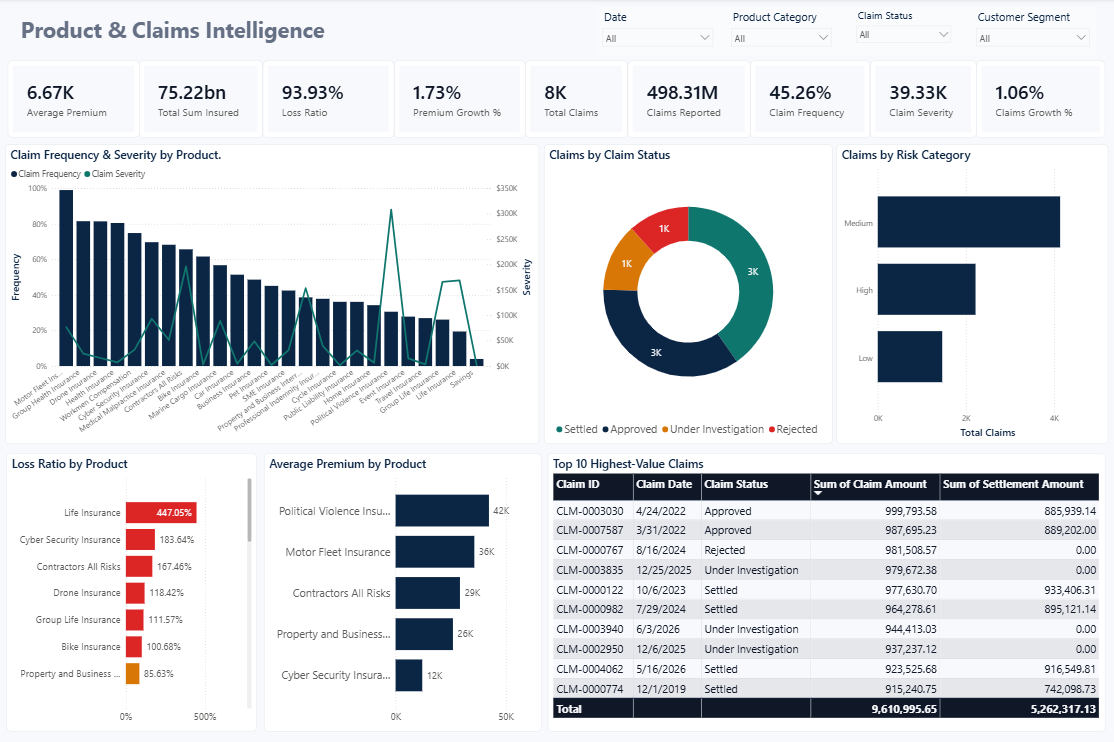

The dashboard page shown, as its layout file describes it:
{"tool":"powerbi","page":{"name":"2 - Product & Claims Intelligence","canvas":[1920,1280],"ordinal":1},"visuals":[{"type":"slicer","title":"Product","fields":{"Values":["Product.Product Category"]},"box":[1247.7,15.4,192.6,84.1],"z":0,"group":"g1"},{"type":"textbox","box":[15,23.6,566.2,66.5],"z":0},{"type":"slicer","fields":{"Values":["Date.Year"]},"box":[1026.1,15.5,210.2,84.1],"z":1000,"group":"g1"},{"type":"cardVisual","fields":{"Data":["_Measures.Average Premium"]},"box":[14.5,107,226,132],"z":1000},{"type":"cardVisual","fields":{"Data":["_Measures.Claim Frequency"]},"box":[1289.1,107.2,205.9,133],"z":2000},{"type":"slicer","title":"Customer Segment","fields":{"Values":["Customer.Customer Segment"]},"box":[1667.5,14.5,214.6,84.1],"z":3000,"group":"g1"},{"type":"cardVisual","fields":{"Data":["_Measures.Total Sum Insured"]},"box":[240.5,107.2,212.3,133],"z":3000},{"type":"cardVisual","fields":{"Data":["_Measures.Claim Severity"]},"box":[1495,107.2,182.3,133],"z":4000},{"type":"group","id":"g1","title":"Group 4","box":[1026.1,14.5,856,85.1],"z":5000},{"type":"cardVisual","fields":{"Data":["_Measures.Claims Growth %"]},"box":[1677.2,107.2,220.9,133],"z":6000},{"type":"cardVisual","fields":{"Data":["_Measures.Premium Growth %"]},"box":[677.9,107.2,225.2,133],"z":7000},{"type":"cardVisual","fields":{"Data":["_Measures.Total Claims"]},"box":[903.1,107.2,175.9,133],"z":8000},{"type":"cardVisual","fields":{"Data":["_Measures.Claims Reported"]},"box":[1078.9,107.2,210.2,133],"z":9000},{"type":"donutChart","title":"Claims by Claim Status","fields":{"Category":["Claim.Claim Status"],"Y":["_Measures.Total Claims"]},"box":[934.3,252,495.4,514.7],"z":9000},{"type":"slicer","fields":{"Values":["Claim.Claim Status"]},"box":[1460.5,13.9,183.1,83.5],"z":10000},{"type":"clusteredBarChart","title":"Loss Ratio by Product","fields":{"Y":["_Measures.Loss Ratio"],"Category":["Product.Product Name"]},"box":[12.9,780.7,430,477.8],"z":12000},{"type":"cardVisual","fields":{"Data":["_Measures.Loss Ratio"]},"box":[452.8,107.2,225.2,133],"z":13000},{"type":"clusteredBarChart","title":"Average Premium by Product","fields":{"Category":["Product.Product Name"],"Y":["_Measures.Average Premium"]},"box":[454.3,781.3,476.1,478.3],"z":14000},{"type":"lineClusteredColumnComboChart","title":"Claim Frequency & Severity by Product.","fields":{"Category":["Product.Product Name"],"Y2":["_Measures.Claim Severity"],"Y":["_Measures.Claim Frequency"]},"box":[10,252,916,514],"z":15000},{"type":"tableEx","title":"Top 10 Highest-Value Claims","fields":{"Values":["Claim.Claim ID","Claim.Claim Date","Claim.Claim Status","Sum(Claim.Claim Amount)","Sum(Claim.Settlement Amount)"]},"box":[941.6,780.7,956.6,478.3],"z":15000},{"type":"clusteredBarChart","title":"Claims by Risk Category","fields":{"Category":["Product.Risk Level"],"Y":["_Measures.Total Claims"]},"box":[1438,252,466,514],"z":17000}]}

Visuals, with their boxes in screenshot pixels (x1, y1, x2, y2), scaled from the page's 1920x1280 canvas onto the 1114x742 screenshot:
"Product" slicer: (724, 9, 836, 58)
textbox: (9, 14, 337, 52)
slicer - Date.Year: (595, 9, 717, 58)
cardVisual - _Measures.Average Premium: (8, 62, 140, 139)
cardVisual - _Measures.Claim Frequency: (748, 62, 867, 139)
"Customer Segment" slicer: (967, 8, 1092, 57)
cardVisual - _Measures.Total Sum Insured: (140, 62, 263, 139)
cardVisual - _Measures.Claim Severity: (867, 62, 973, 139)
"Group 4" group: (595, 8, 1092, 58)
cardVisual - _Measures.Claims Growth %: (973, 62, 1101, 139)
cardVisual - _Measures.Premium Growth %: (393, 62, 524, 139)
cardVisual - _Measures.Total Claims: (524, 62, 626, 139)
cardVisual - _Measures.Claims Reported: (626, 62, 748, 139)
"Claims by Claim Status" donutChart: (542, 146, 830, 444)
slicer - Claim.Claim Status: (847, 8, 954, 56)
"Loss Ratio by Product" clusteredBarChart: (7, 453, 257, 730)
cardVisual - _Measures.Loss Ratio: (263, 62, 393, 139)
"Average Premium by Product" clusteredBarChart: (264, 453, 540, 730)
"Claim Frequency & Severity by Product." lineClusteredColumnComboChart: (6, 146, 537, 444)
"Top 10 Highest-Value Claims" tableEx: (546, 453, 1101, 730)
"Claims by Risk Category" clusteredBarChart: (834, 146, 1105, 444)
